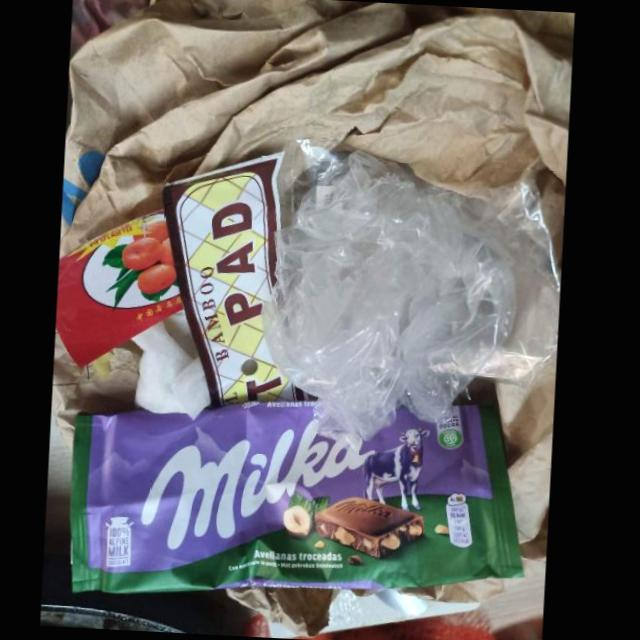bao_bi_thuc_pham: (69, 377, 524, 594)
giay: (60, 0, 575, 281)
tui_ni_long: (266, 139, 561, 451)
